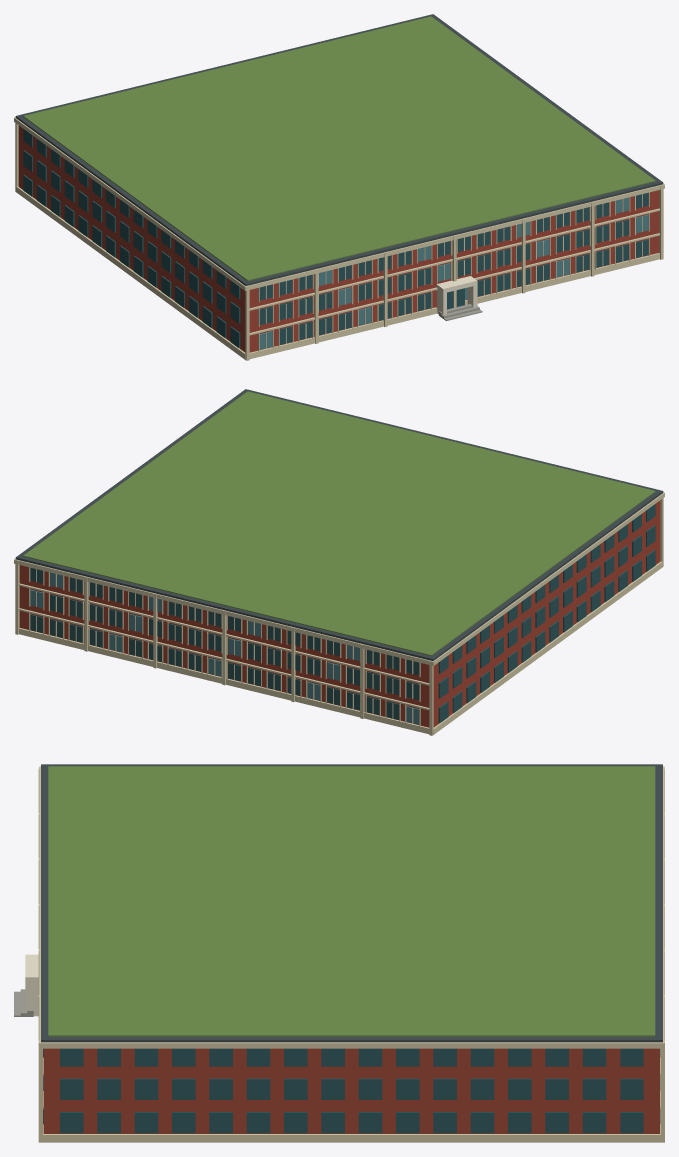
3 renders of one model, top to bottom at view 1: azimuth 30°, elevation 25°; view 2: azimuth 150°, elevation 25°; view 3: azimuth 270°, elevation 25°, orthographic. The views are drawn at different scales.
Parts seen in each view (by area): view 1: GreenRoof, MainBlock_Structure, MainBlock_WindowGlass, MainBlock_SideWindows, MainBlock_Roof, MainBlock_WindowFrames, MainBlock_Plinth, MainBlock_Cornice, MainBlock_Pilasters, MainBlock_FloorBands; view 2: GreenRoof, MainBlock_Structure, MainBlock_WindowGlass, MainBlock_SideWindows, MainBlock_Roof, MainBlock_WindowFrames, MainBlock_Plinth, MainBlock_Cornice, MainBlock_Pilasters, MainBlock_FloorBands; view 3: GreenRoof, MainBlock_Structure, MainBlock_SideWindows, MainBlock_Roof, MainBlock_Plinth, MainBlock_Cornice, MainBlock_Pilasters.
Part boxes in pixels (<box>): GreenRoof: <box>23,16,655,280</box>; MainBlock_Structure: <box>18,125,659,352</box>; MainBlock_WindowGlass: <box>259,192,648,349</box>; MainBlock_SideWindows: <box>23,129,240,348</box>; MainBlock_Roof: <box>15,14,663,285</box>; MainBlock_WindowFrames: <box>258,192,649,351</box>; MainBlock_Plinth: <box>16,186,659,360</box>; MainBlock_Cornice: <box>14,117,664,290</box>; MainBlock_Pilasters: <box>15,123,663,360</box>; MainBlock_FloorBands: <box>18,142,659,335</box>; GreenRoof: <box>23,391,655,655</box>; MainBlock_Structure: <box>19,500,660,727</box>; MainBlock_WindowGlass: <box>30,567,419,724</box>; MainBlock_SideWindows: <box>438,504,655,723</box>; MainBlock_Roof: <box>15,389,663,660</box>; MainBlock_WindowFrames: <box>29,567,420,726</box>; MainBlock_Plinth: <box>19,561,662,735</box>; MainBlock_Cornice: <box>14,492,664,665</box>; MainBlock_Pilasters: <box>15,498,663,735</box>; MainBlock_FloorBands: <box>19,517,660,710</box>; GreenRoof: <box>48,766,655,1036</box>; MainBlock_Structure: <box>43,1048,659,1133</box>; MainBlock_SideWindows: <box>60,1048,643,1133</box>; MainBlock_Roof: <box>41,764,662,1042</box>; MainBlock_Plinth: <box>41,1109,662,1142</box>; MainBlock_Cornice: <box>39,766,664,1048</box>; MainBlock_Pilasters: <box>38,767,664,1142</box>.
Bounding box in the file's own units: 69.42 × 12.18 × 68.96.
